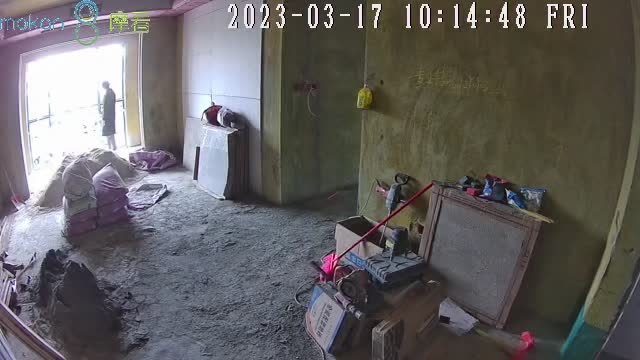people: (99, 80, 118, 152)
window: (25, 49, 126, 171)
